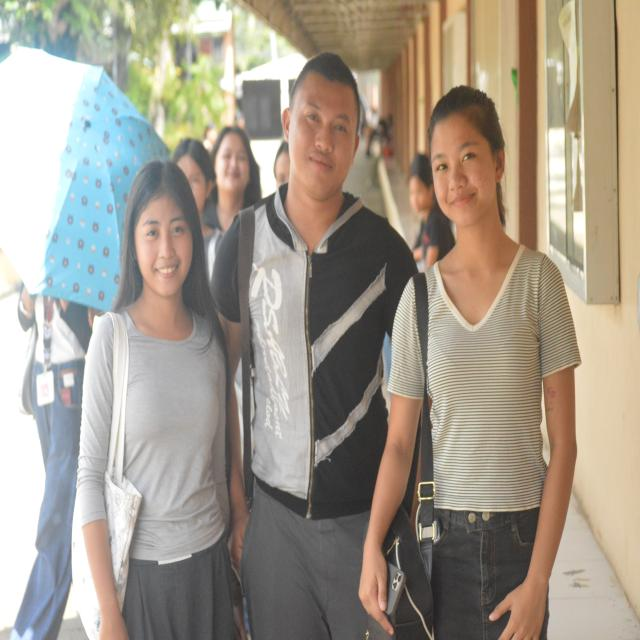person: (360, 87, 580, 639), (231, 53, 416, 639), (76, 162, 233, 639), (11, 287, 94, 639), (409, 154, 454, 270), (274, 141, 290, 187)
